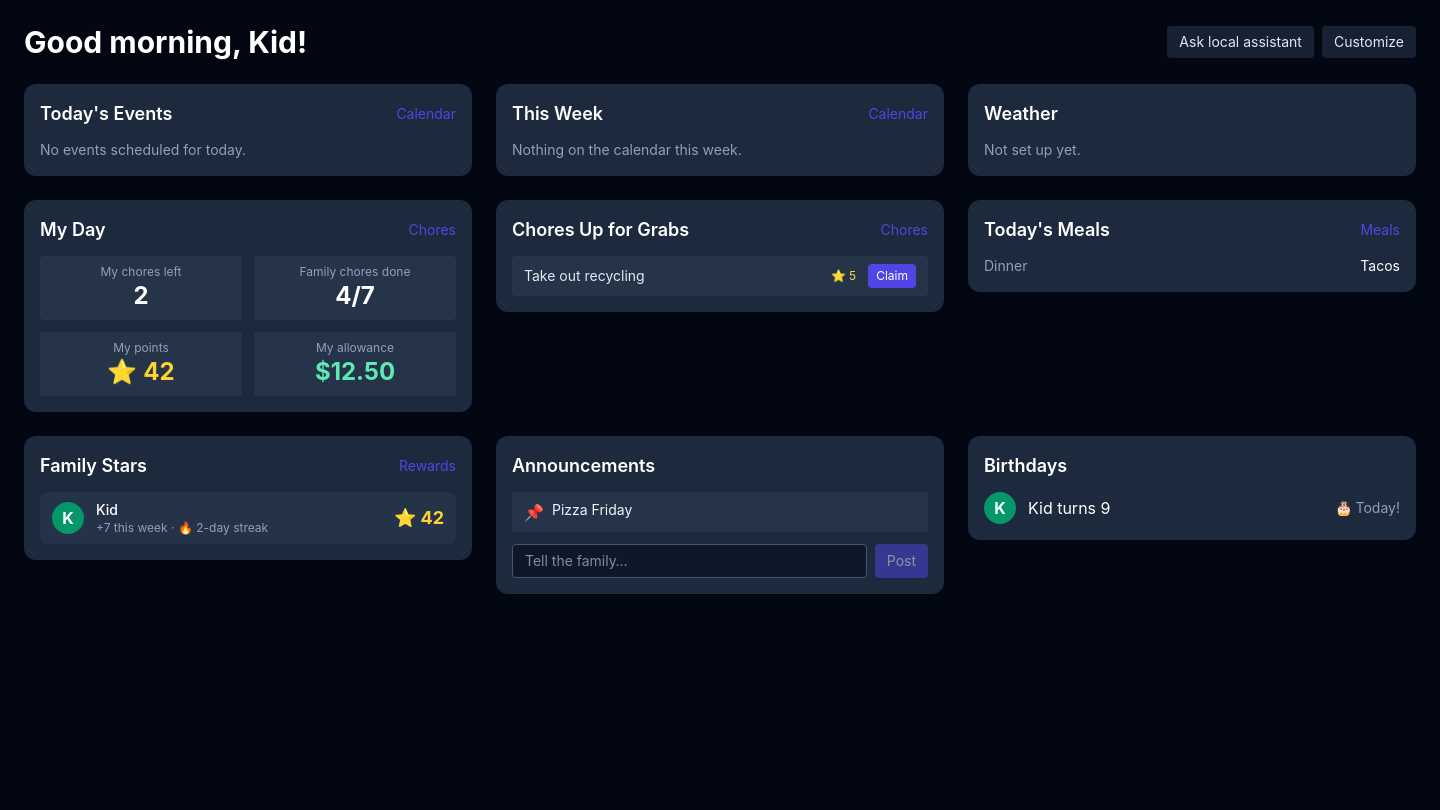
Dashboard › shows the server's reason when posting fails
Type "x" into the field named "New announcement" at (689, 561), box [512,544,867,578]
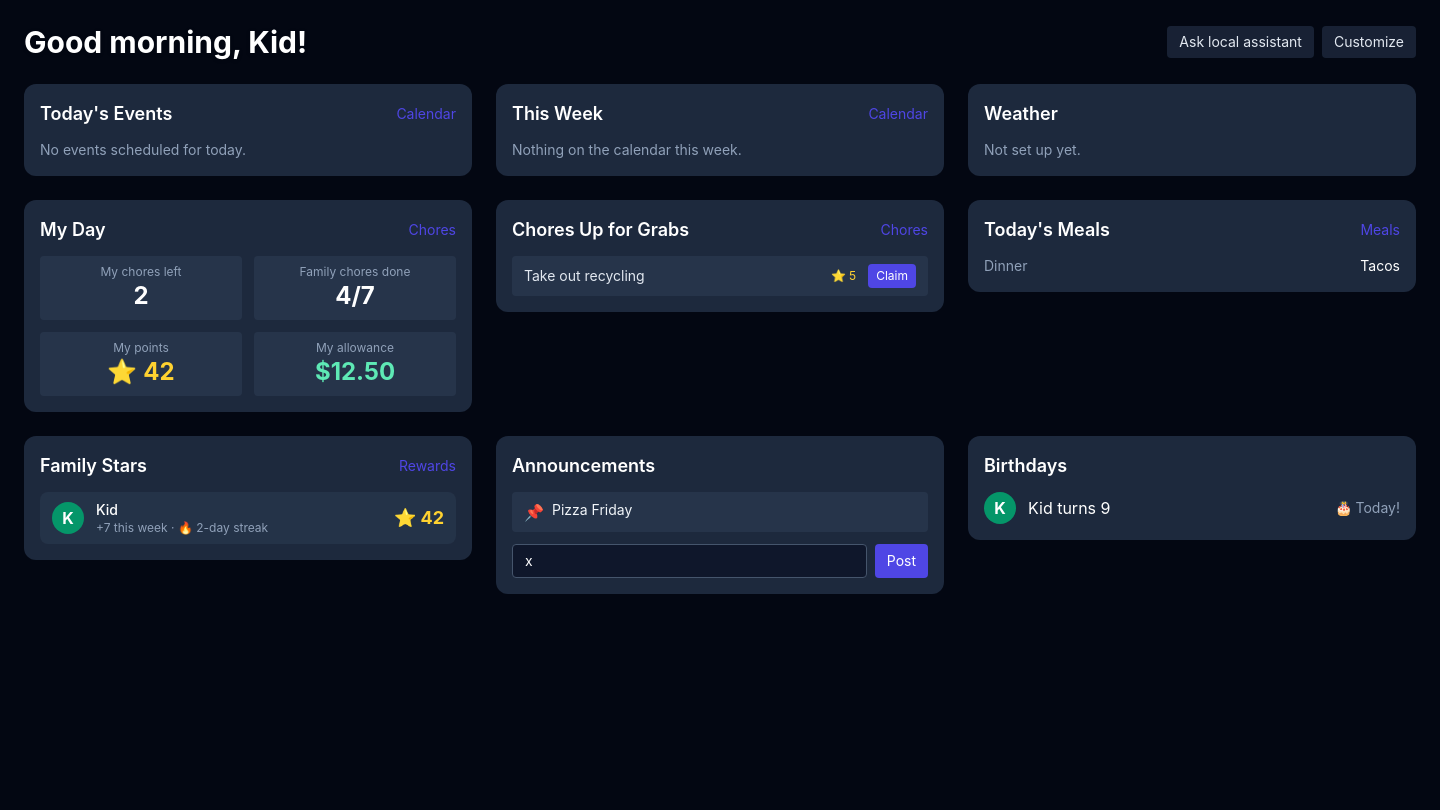
Click the button "Post" at (901, 561), box [875,544,928,578]
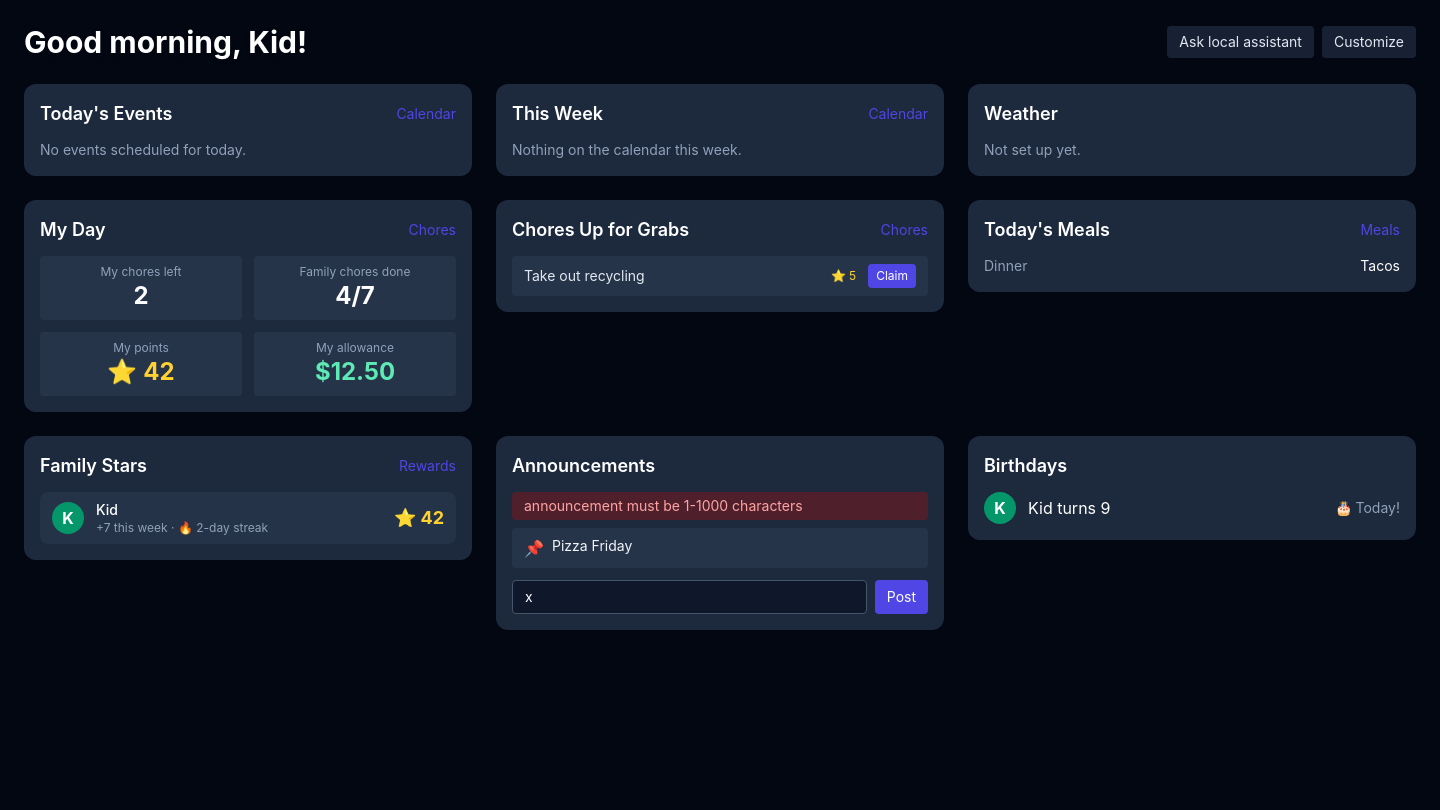
Now the text "announcement must be 1-1000 characters" is shown, box [512,492,928,520]
